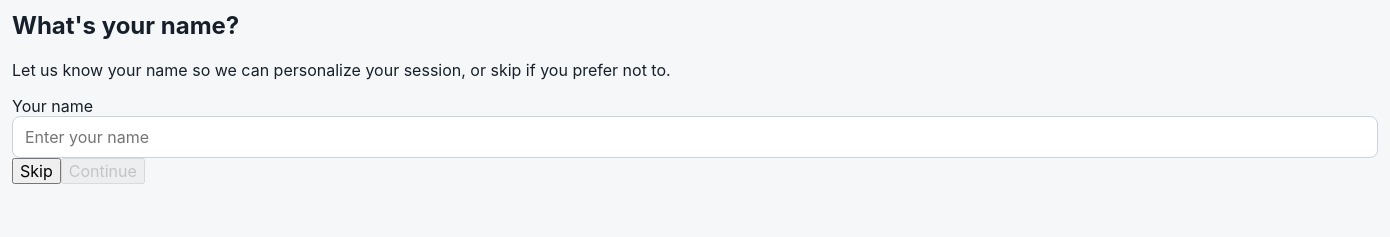
shows an error message when the request fails
Type "Maria" into the field labelled "Your name".
click(695, 137); type("Maria")  # box [12, 116, 1378, 158]
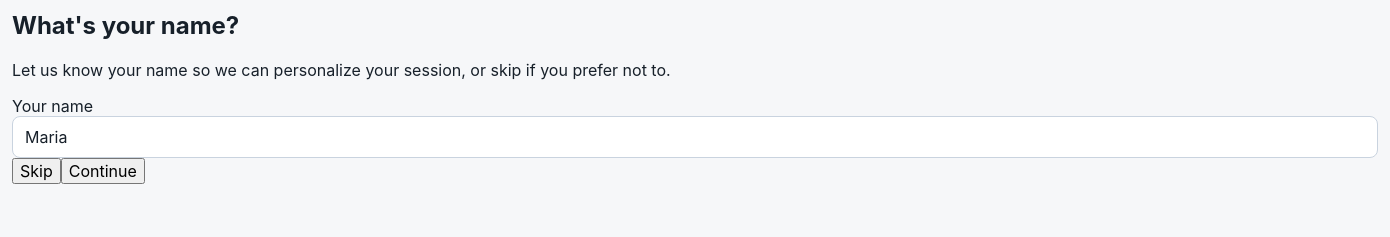
Click the button "Continue".
click(103, 171)  # box [61, 158, 145, 184]
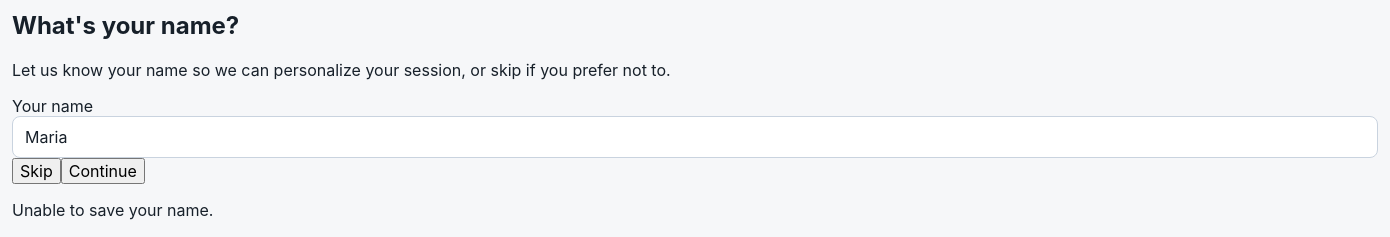
Check: the message reads "Unable to save your name.", box [12, 200, 213, 220]
